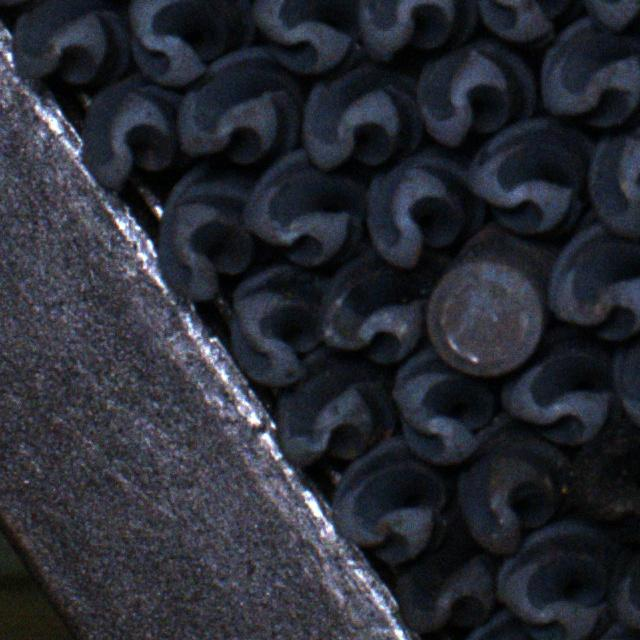tool: (424, 260, 539, 374)
tool_b: (175, 44, 302, 164), (467, 118, 597, 235), (494, 519, 619, 639), (329, 438, 447, 564), (238, 153, 364, 270), (498, 321, 618, 443), (364, 151, 486, 270), (159, 161, 263, 299), (458, 432, 574, 554), (276, 351, 396, 468), (418, 39, 538, 148), (300, 62, 420, 166), (547, 209, 640, 343), (315, 252, 424, 366), (80, 78, 190, 188), (389, 346, 493, 460), (230, 263, 327, 383), (541, 18, 640, 128), (398, 530, 500, 636), (130, 0, 256, 84), (12, 0, 130, 85), (569, 423, 640, 543), (250, 0, 360, 72), (355, 0, 476, 57), (590, 121, 640, 243), (475, 0, 589, 43), (609, 520, 640, 632), (448, 610, 562, 640), (612, 319, 640, 441), (584, 0, 640, 33)
